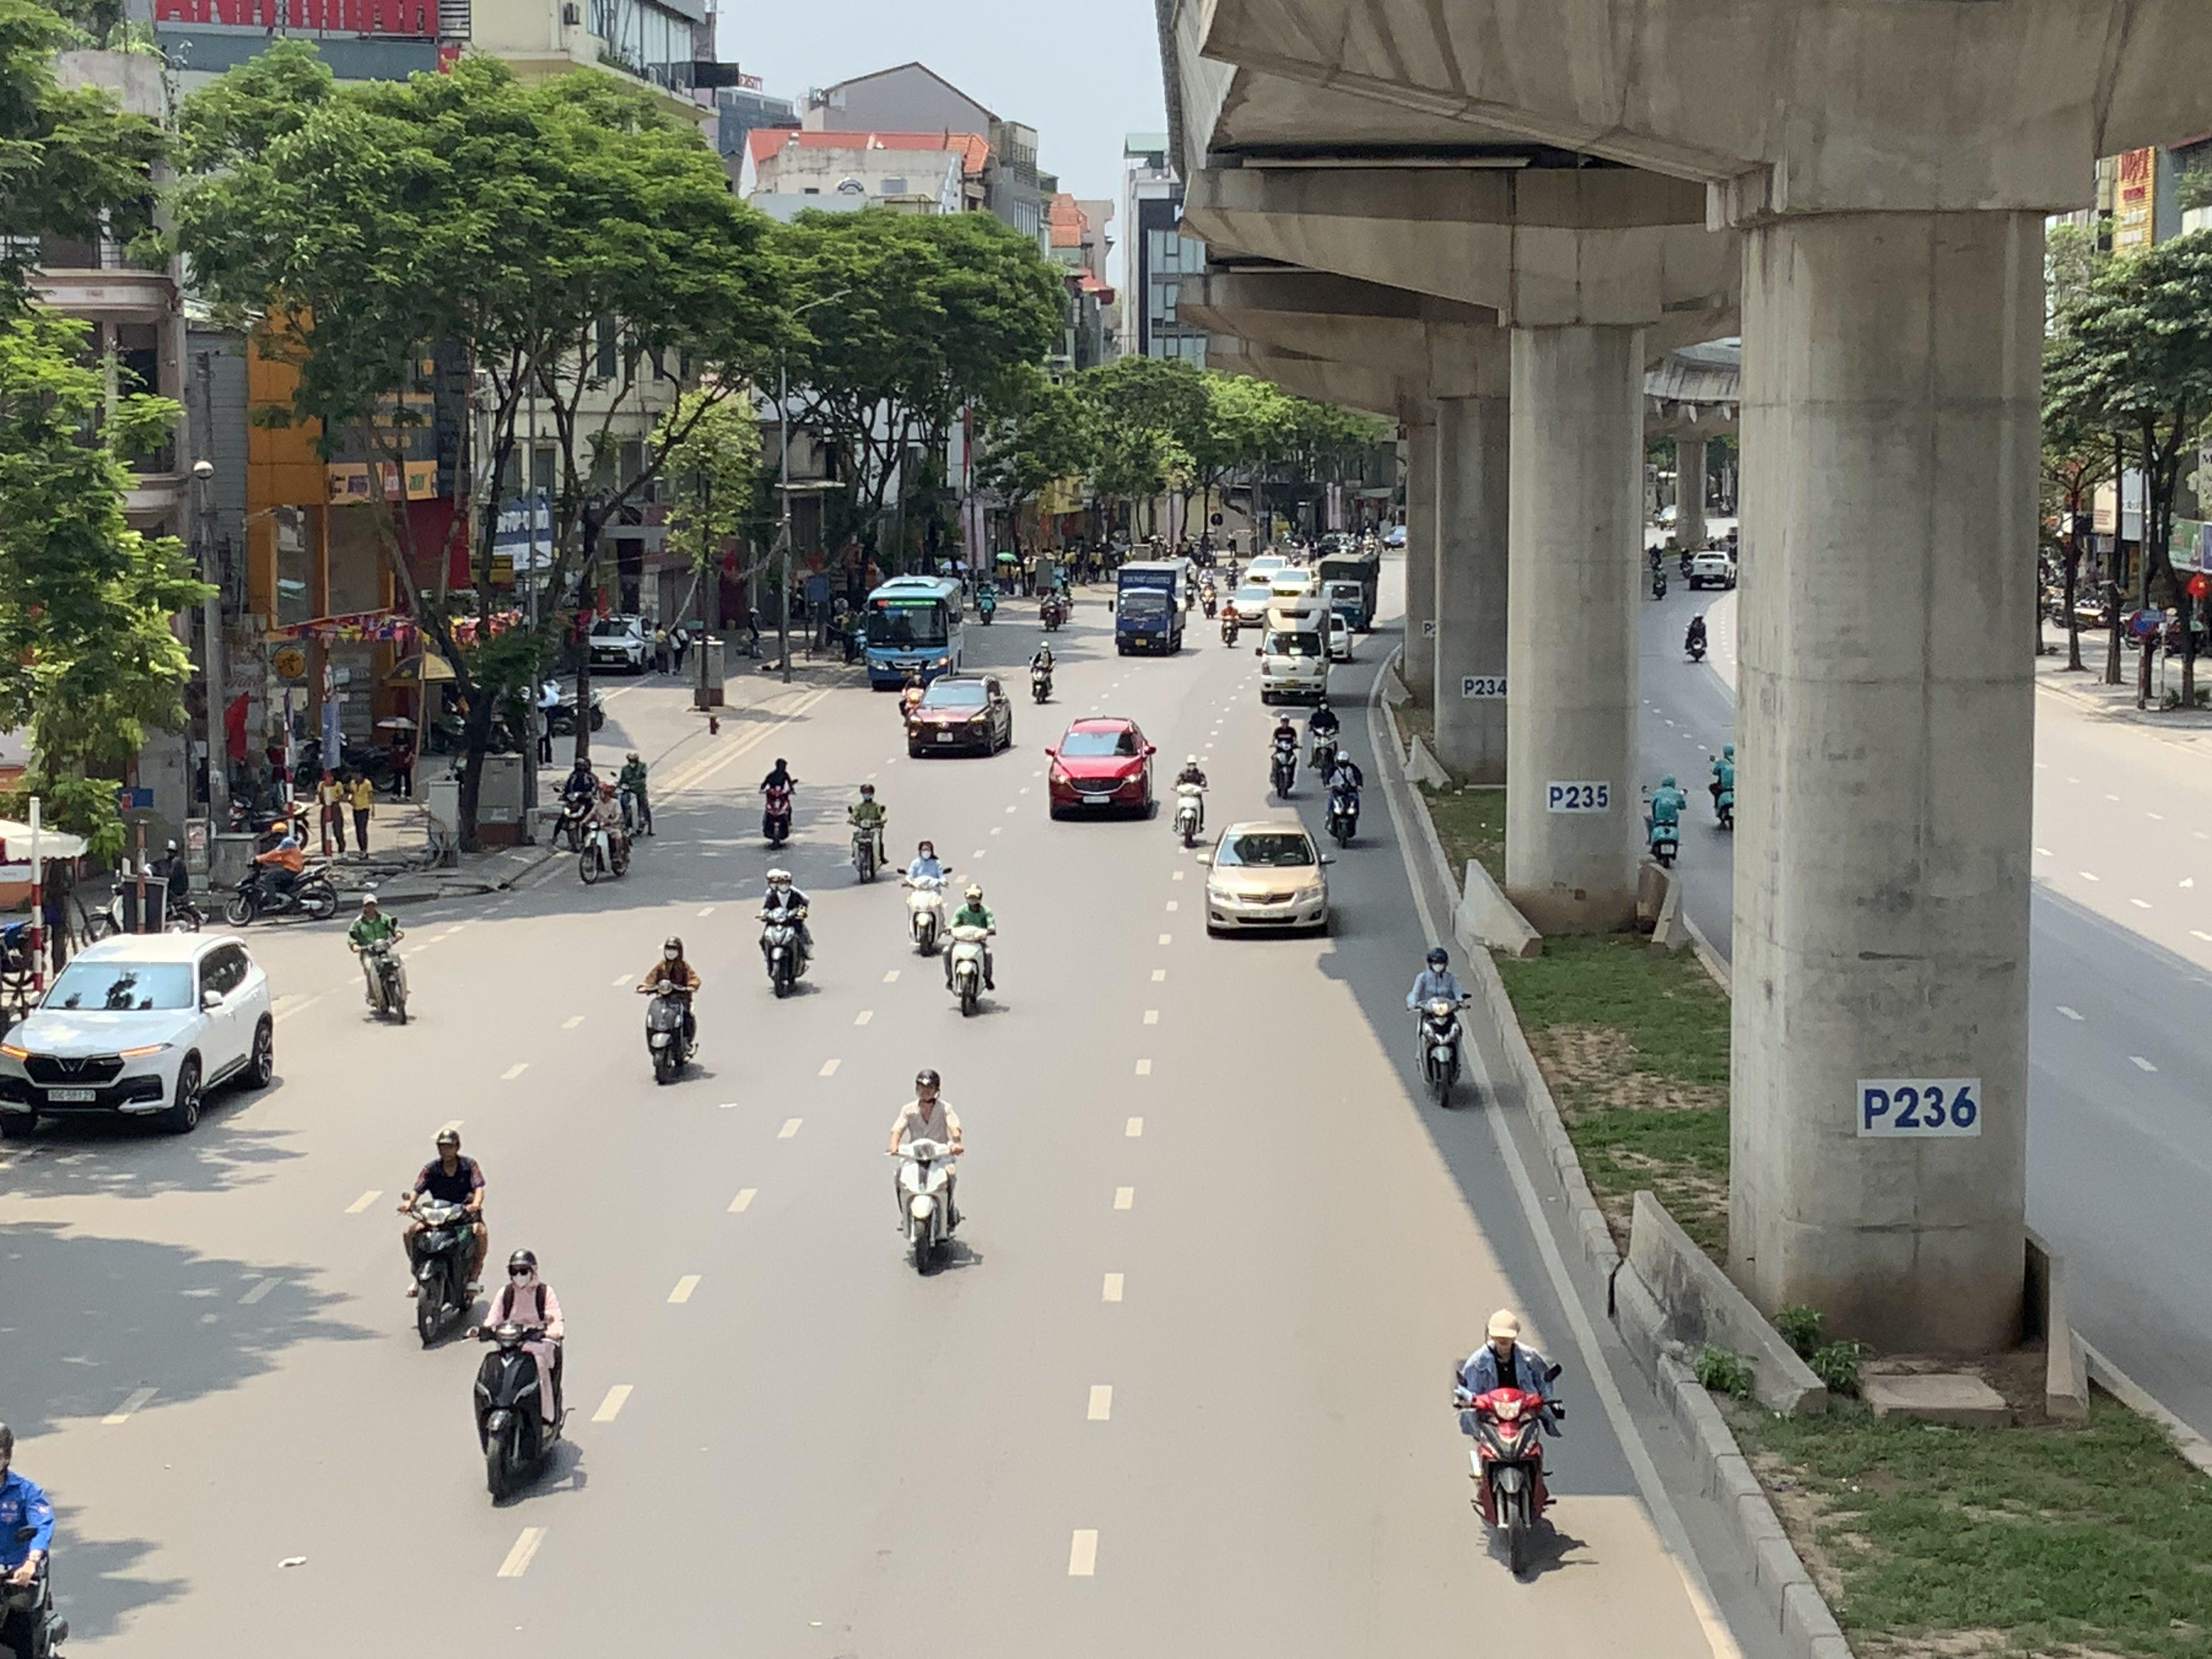BSD: (47, 1087, 96, 1103)
bus: (860, 573, 965, 690)
car: (0, 931, 279, 1136), (1202, 819, 1334, 938), (1045, 716, 1157, 823), (904, 674, 1014, 758), (583, 615, 658, 673), (1686, 552, 1735, 591)
motorbike: (1454, 1307, 1566, 1582), (470, 1248, 571, 1507), (399, 1126, 489, 1349), (0, 1419, 71, 1659), (890, 1068, 967, 1276), (230, 816, 340, 922), (1407, 945, 1472, 1108), (637, 934, 702, 1084), (348, 894, 413, 1025), (756, 866, 815, 997), (942, 885, 998, 1018), (900, 838, 953, 958), (578, 782, 634, 885), (552, 756, 599, 854), (846, 781, 890, 885), (1322, 744, 1364, 847), (1644, 770, 1686, 868), (613, 749, 657, 840), (758, 753, 798, 849), (1170, 755, 1209, 849), (1305, 695, 1341, 775), (1268, 711, 1301, 798), (1707, 741, 1737, 833), (1028, 641, 1057, 704), (1219, 594, 1240, 645)
truck: (1259, 594, 1332, 706), (1115, 558, 1188, 657)
